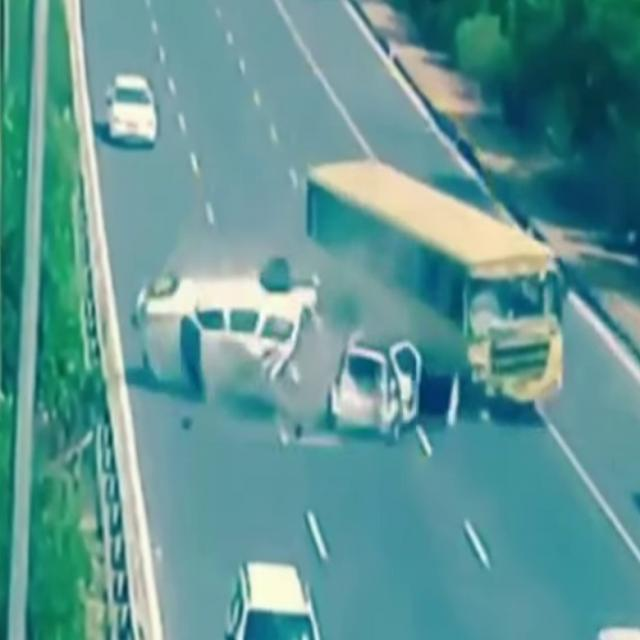accident: (133, 249, 434, 458), (136, 223, 328, 414)
